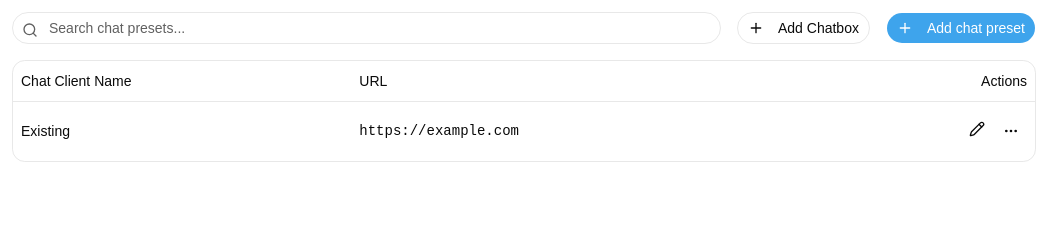
Test: quickly adds a key-free Chatbox preset without submitting or replacing other presets
Click the button "Add Chatbox": (804, 28) [737,12,870,44]
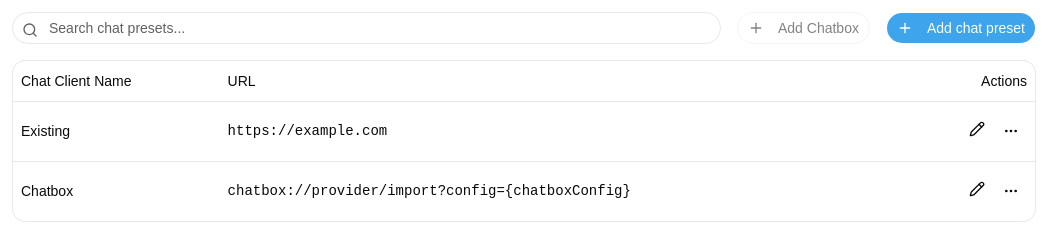
Expected: the text "Existing" is shown, [21,123,70,139]
Expected: the text "chatbox://provider/import?config={chatboxConfig}" is shown, [228,183,631,199]
Expected: the button "Add Chatbox" is disabled, [737,12,870,44]
